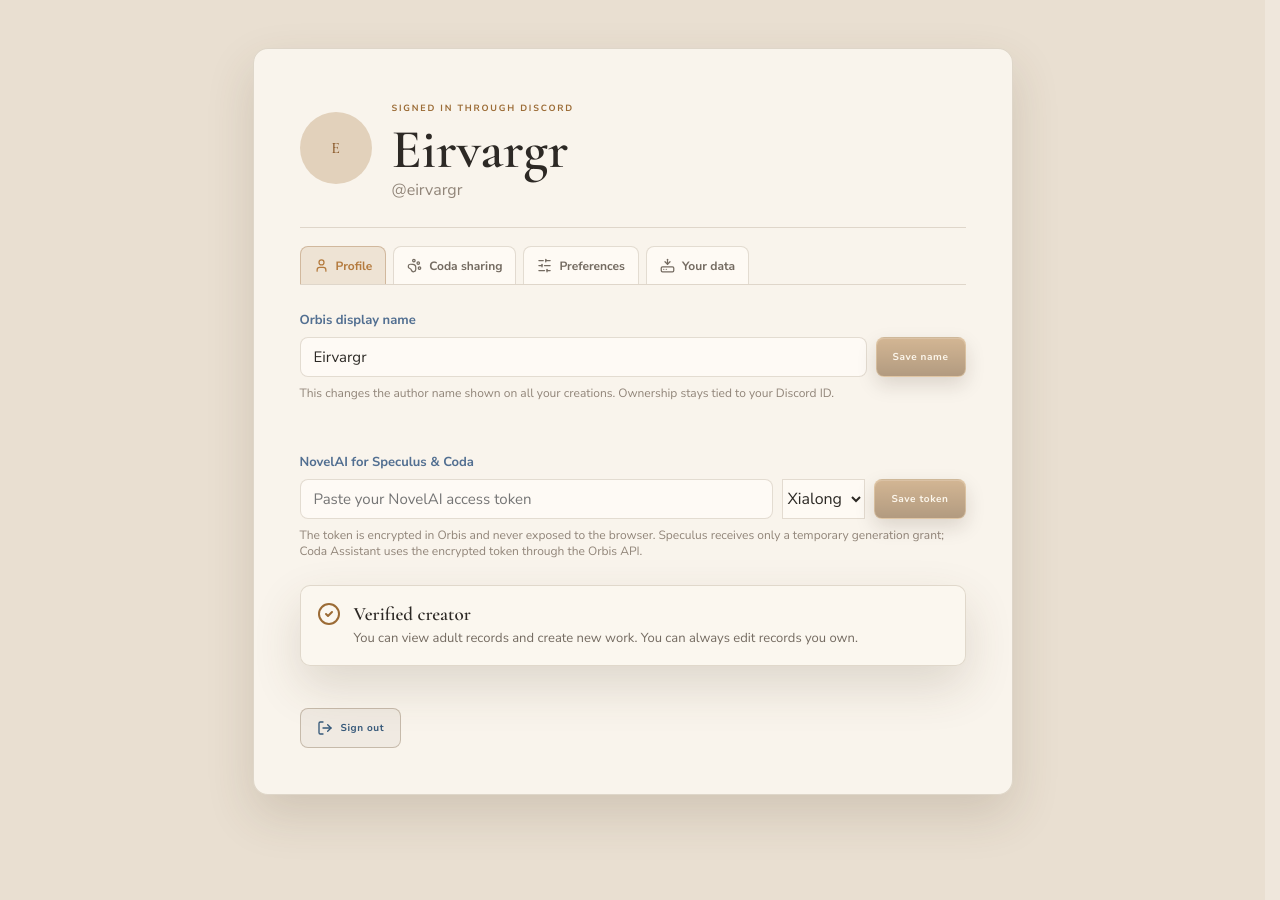
Test: account page sections › shows one panel at a time and marks the active tab
The width and height of the screenshot is (1280, 900).
Expected: the number of panels is 1, x1=300 y1=285 x2=966 y2=666
Expected: the field labelled "Orbis display name" is shown, x1=300 y1=337 x2=867 y2=377
Click the tab "Preferences".
click(581, 265)  # box x1=523 y1=246 x2=639 y2=284
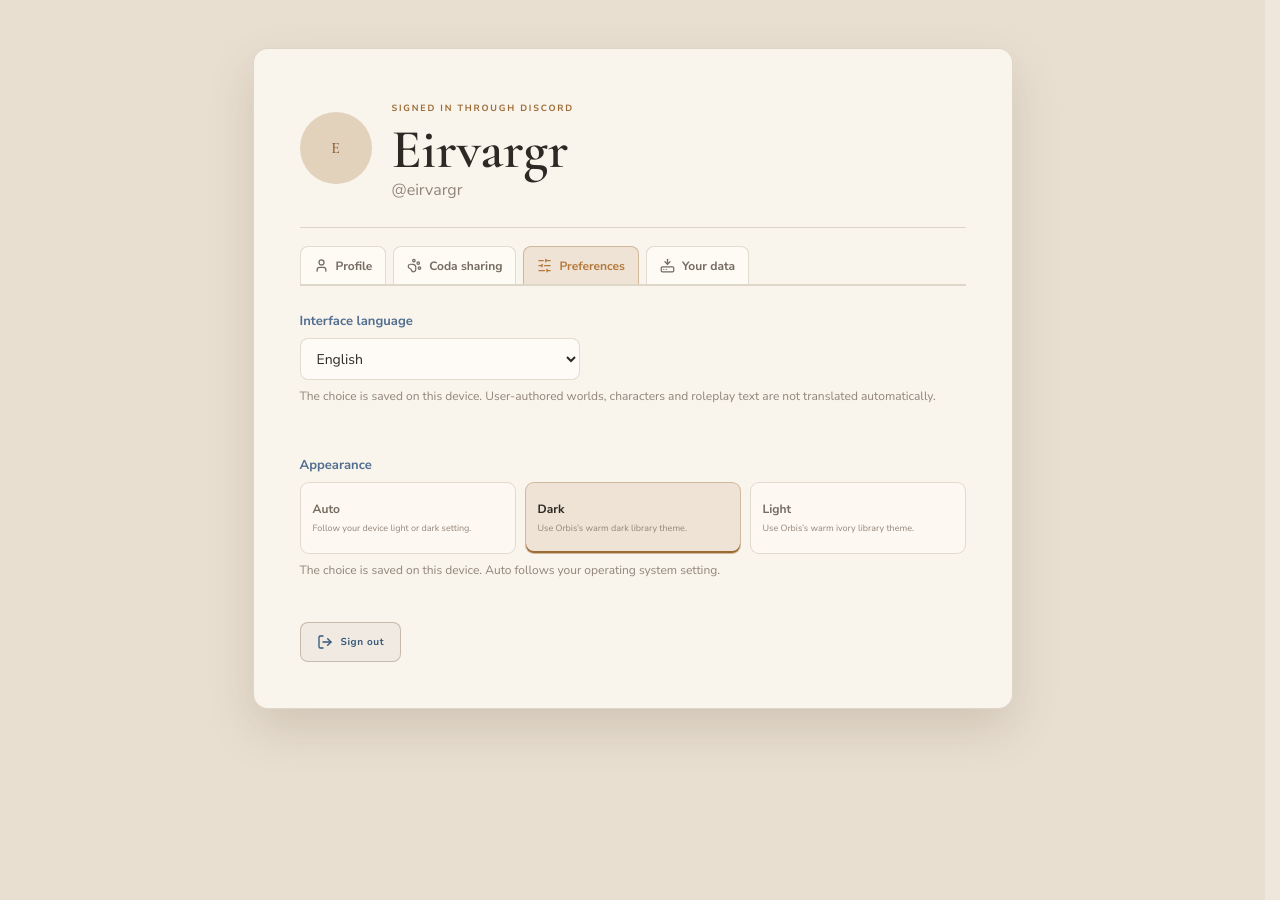
Now the number of panels is 1, box x1=300 y1=285 x2=966 y2=604
Now the dropdown labelled "Interface language" is shown, box x1=300 y1=338 x2=580 y2=380
